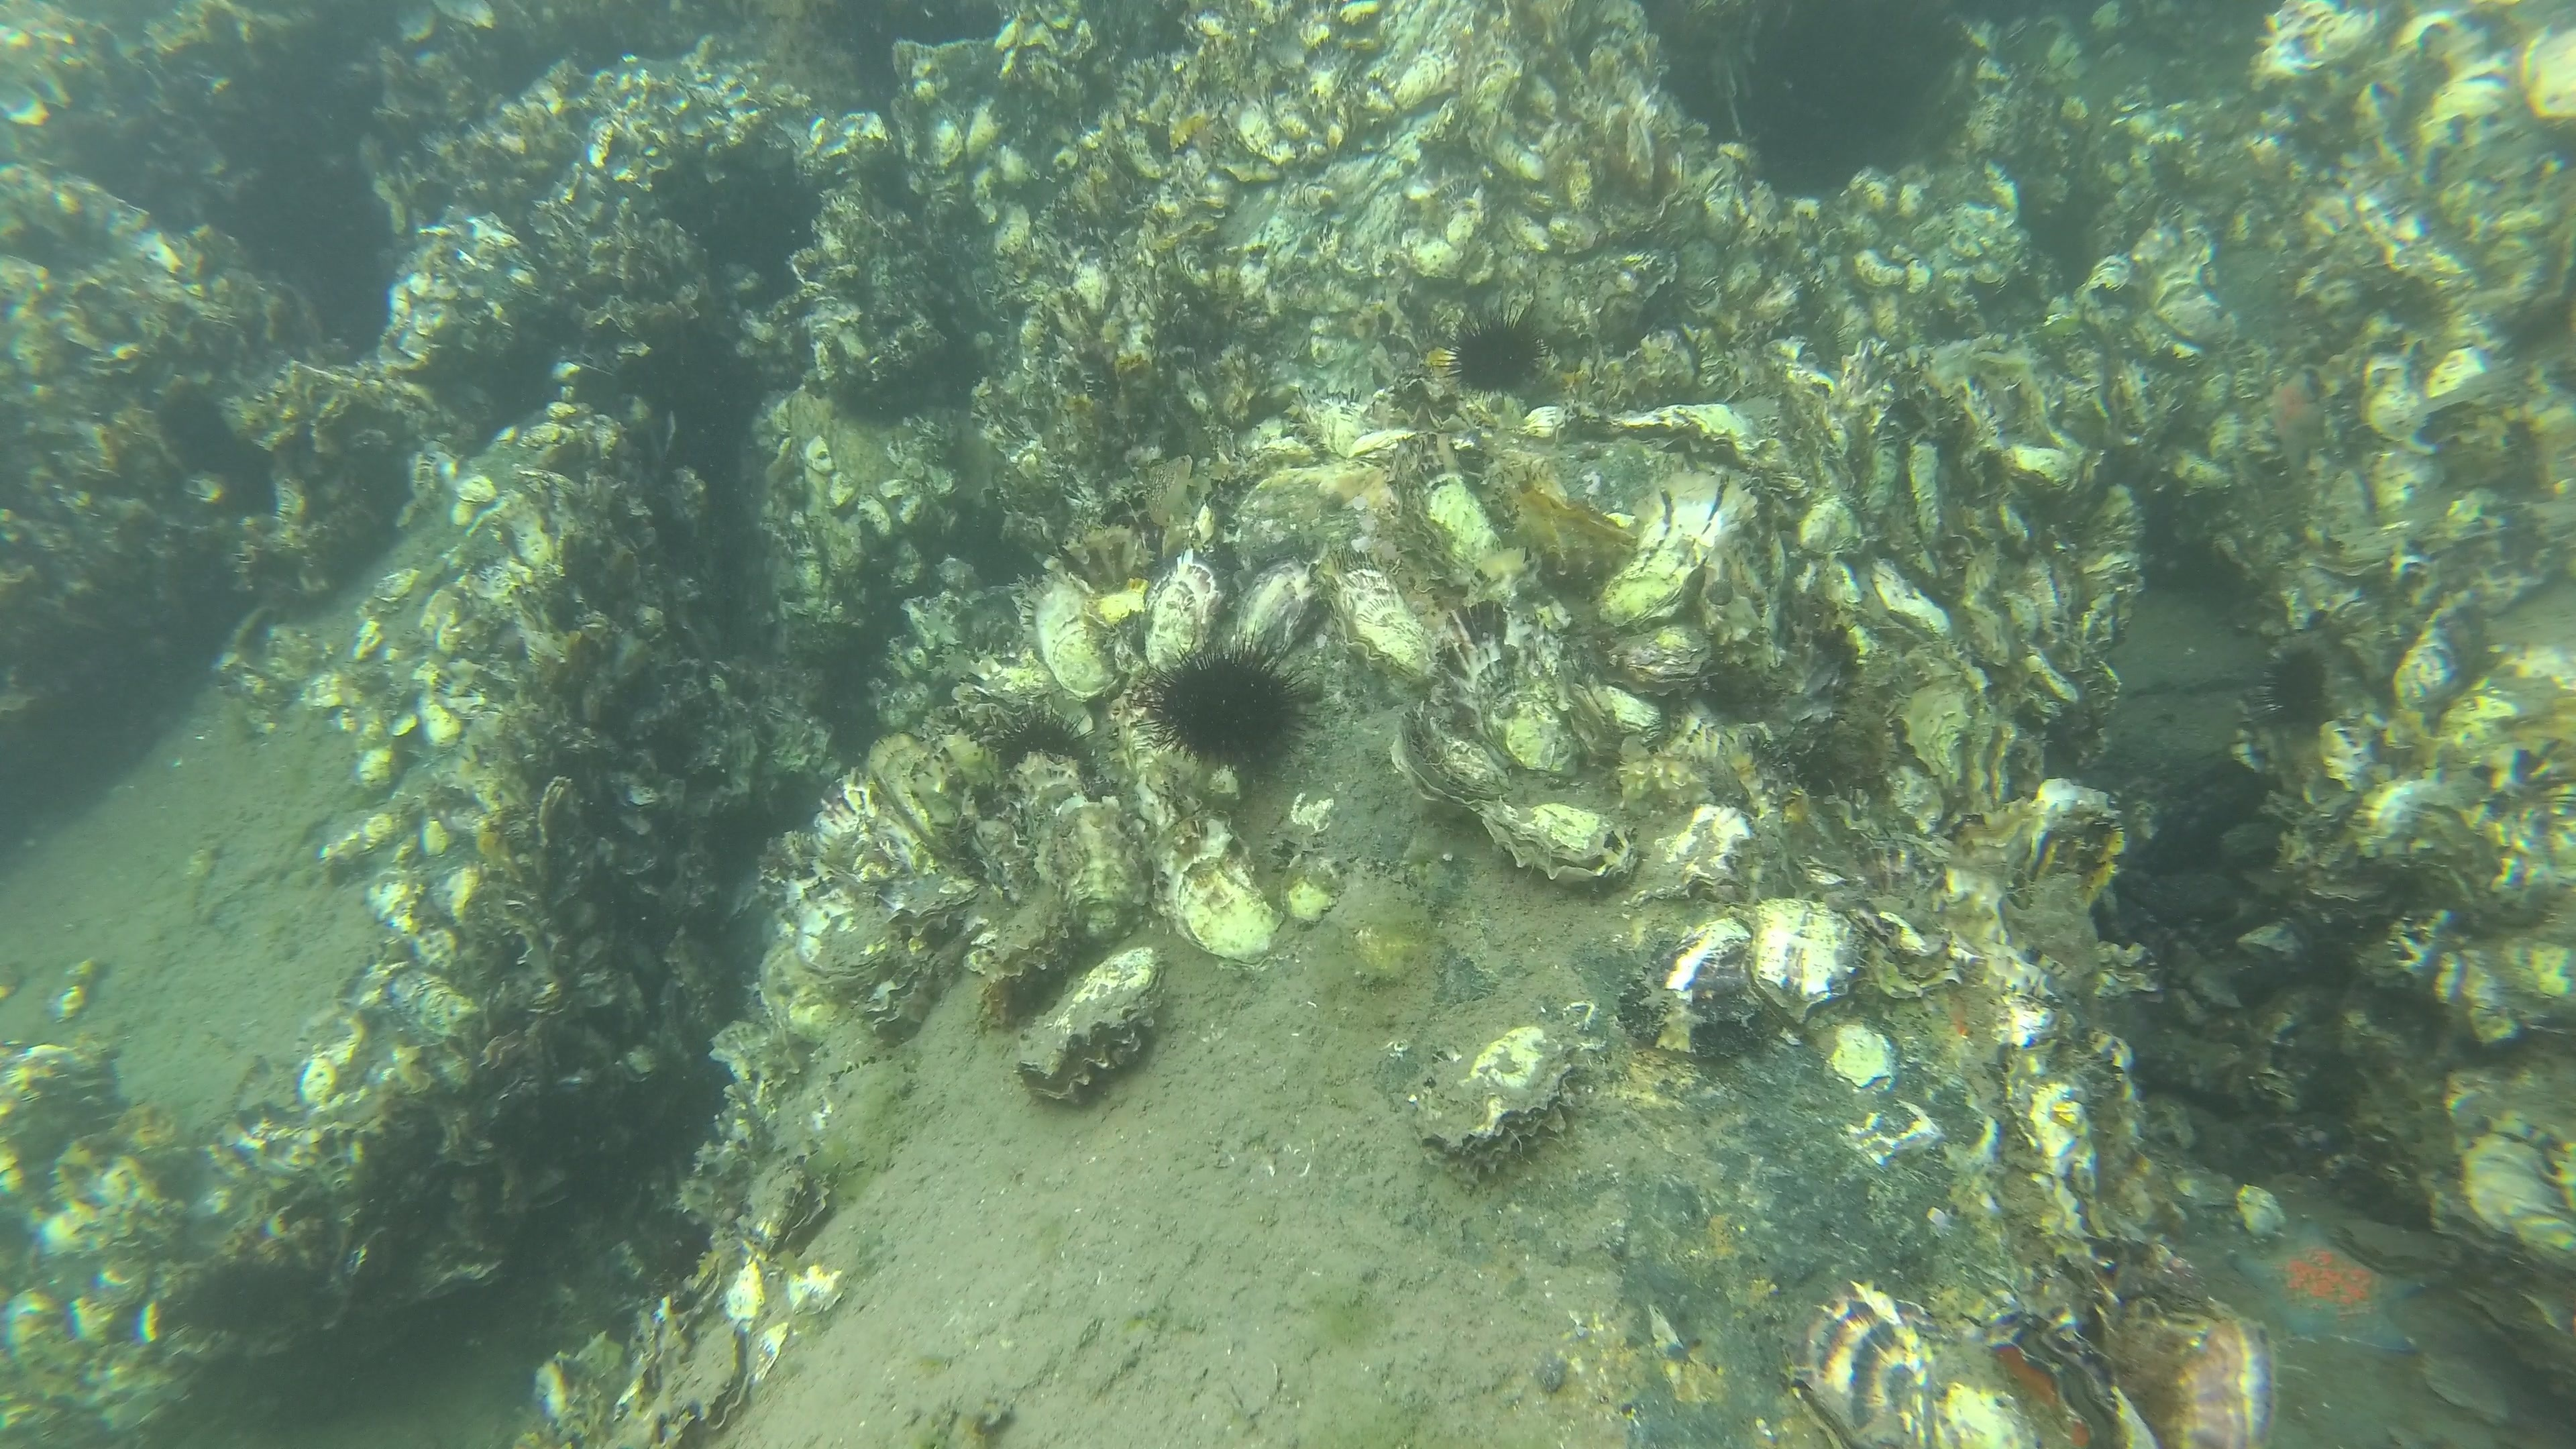echinus: (1123, 626, 1330, 778), (1437, 303, 1555, 409), (978, 702, 1102, 777), (2256, 646, 2337, 732)
starfish: (2226, 1210, 2427, 1357), (2259, 364, 2334, 481)
